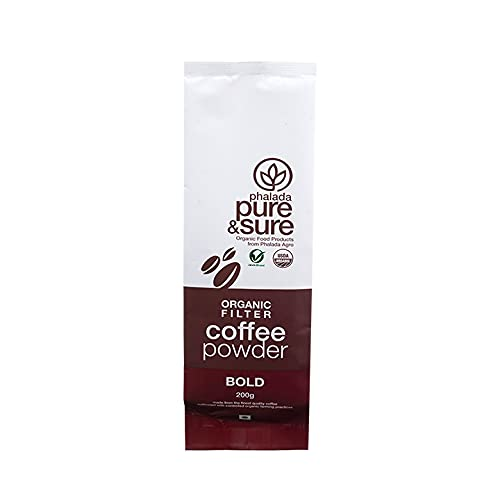BOLD: (226, 377, 264, 387)
coffee: (206, 321, 285, 341)
powder: (203, 343, 288, 360)
